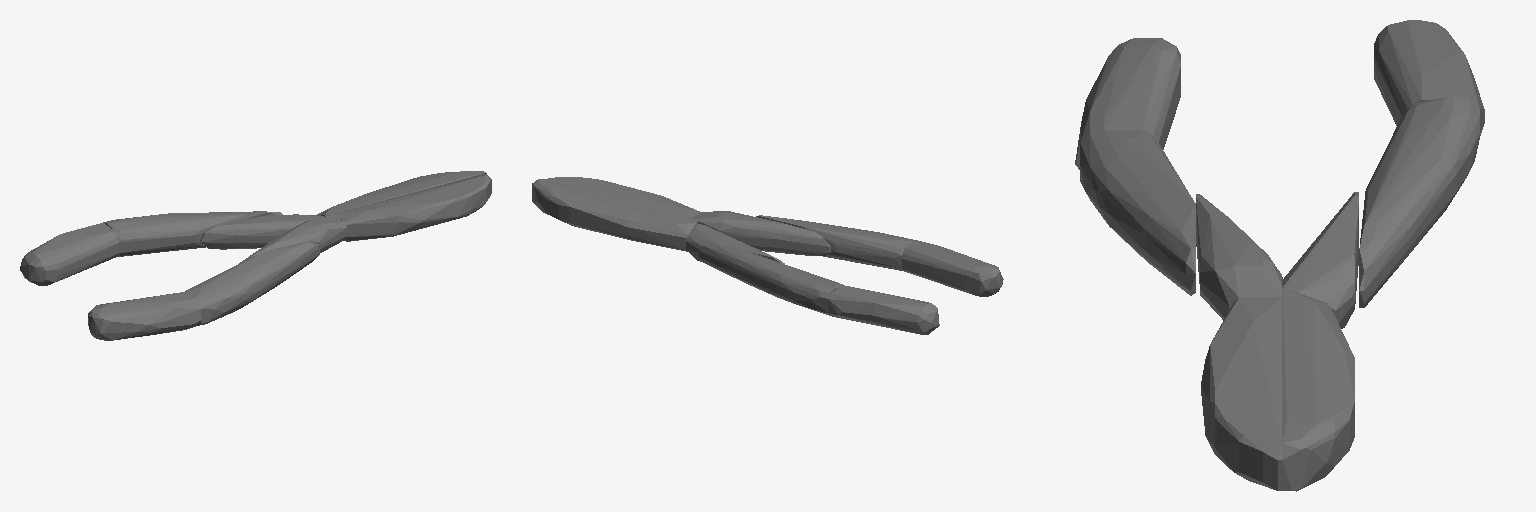
robot.urdf — pliers_006:
<?xml version="1.0" ?>
<robot name="pliers_006">
  <material name="color">
    <color rgba=".5 .5 .5 1"/>
  </material>

  <link name="base_link">
    <contact>
      <lateral_friction value="1.0"/>
      <rolling_friction value="0.001"/>
      <spinning_friction value="0.001"/>
      <inertia_scaling value="1.0"/>
    </contact>
    <inertial>
      <origin rpy="0 0 0" xyz="-0.0071427 0.000102321 0.000995783"/>
       <mass value="0.1"/>
       <inertia ixx="1" ixy="0" ixz="0" iyy="1" iyz="0" izz="1"/>
    </inertial>

    <visual>
      <origin rpy="0 0 0" xyz="0 0 0"/>
      <geometry>
        <mesh filename="pliers_006_vhacd_0_of_8.obj" scale="1 1 1"/>
      </geometry>
      <material name="color"/>
    </visual>
    <visual>
      <origin rpy="0 0 0" xyz="0 0 0"/>
      <geometry>
        <mesh filename="pliers_006_vhacd_1_of_8.obj" scale="1 1 1"/>
      </geometry>
      <material name="color"/>
    </visual>
    <visual>
      <origin rpy="0 0 0" xyz="0 0 0"/>
      <geometry>
        <mesh filename="pliers_006_vhacd_2_of_8.obj" scale="1 1 1"/>
      </geometry>
      <material name="color"/>
    </visual>
    <visual>
      <origin rpy="0 0 0" xyz="0 0 0"/>
      <geometry>
        <mesh filename="pliers_006_vhacd_3_of_8.obj" scale="1 1 1"/>
      </geometry>
      <material name="color"/>
    </visual>
    <visual>
      <origin rpy="0 0 0" xyz="0 0 0"/>
      <geometry>
        <mesh filename="pliers_006_vhacd_4_of_8.obj" scale="1 1 1"/>
      </geometry>
      <material name="color"/>
    </visual>
    <visual>
      <origin rpy="0 0 0" xyz="0 0 0"/>
      <geometry>
        <mesh filename="pliers_006_vhacd_5_of_8.obj" scale="1 1 1"/>
      </geometry>
      <material name="color"/>
    </visual>
    <visual>
      <origin rpy="0 0 0" xyz="0 0 0"/>
      <geometry>
        <mesh filename="pliers_006_vhacd_6_of_8.obj" scale="1 1 1"/>
      </geometry>
      <material name="color"/>
    </visual>
    <visual>
      <origin rpy="0 0 0" xyz="0 0 0"/>
      <geometry>
        <mesh filename="pliers_006_vhacd_7_of_8.obj" scale="1 1 1"/>
      </geometry>
      <material name="color"/>
    </visual>

    <collision>
      <origin rpy="0 0 0" xyz="0 0 0"/>
      <geometry>
        <mesh filename="pliers_006_vhacd_0_of_8.obj" scale="1 1 1"/>
      </geometry>
    </collision>
    <collision>
      <origin rpy="0 0 0" xyz="0 0 0"/>
      <geometry>
        <mesh filename="pliers_006_vhacd_1_of_8.obj" scale="1 1 1"/>
      </geometry>
    </collision>
    <collision>
      <origin rpy="0 0 0" xyz="0 0 0"/>
      <geometry>
        <mesh filename="pliers_006_vhacd_2_of_8.obj" scale="1 1 1"/>
      </geometry>
    </collision>
    <collision>
      <origin rpy="0 0 0" xyz="0 0 0"/>
      <geometry>
        <mesh filename="pliers_006_vhacd_3_of_8.obj" scale="1 1 1"/>
      </geometry>
    </collision>
    <collision>
      <origin rpy="0 0 0" xyz="0 0 0"/>
      <geometry>
        <mesh filename="pliers_006_vhacd_4_of_8.obj" scale="1 1 1"/>
      </geometry>
    </collision>
    <collision>
      <origin rpy="0 0 0" xyz="0 0 0"/>
      <geometry>
        <mesh filename="pliers_006_vhacd_5_of_8.obj" scale="1 1 1"/>
      </geometry>
    </collision>
    <collision>
      <origin rpy="0 0 0" xyz="0 0 0"/>
      <geometry>
        <mesh filename="pliers_006_vhacd_6_of_8.obj" scale="1 1 1"/>
      </geometry>
    </collision>
    <collision>
      <origin rpy="0 0 0" xyz="0 0 0"/>
      <geometry>
        <mesh filename="pliers_006_vhacd_7_of_8.obj" scale="1 1 1"/>
      </geometry>
    </collision>

  </link>
</robot>

--- Render facts (derived) ---
3 views of the same robot in one strip: view 1: azimuth 30°, elevation 25°; view 2: azimuth 150°, elevation 25°; view 3: azimuth 270°, elevation 25° (orthographic).
Model pliers_006 with 1 links and 0 joints (none), rooted at base_link, posed all joints at 0.
Visible links, largest first — view 1: base_link; view 2: base_link; view 3: base_link.
Link boxes in pixels (x1,y1,x2,y2): base_link: [20, 171, 491, 340]; base_link: [532, 177, 1003, 334]; base_link: [1075, 20, 1484, 491].
Size in the robot's own frame: 0.1809 by 0.0709 by 0.0167 metres.
Meshes: 8 distinct files referenced, 8 mesh visuals loaded (8 OBJ).